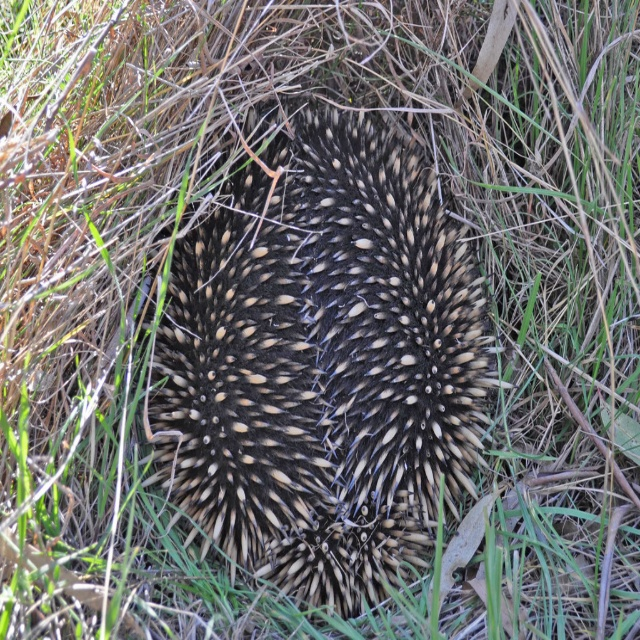Hedgehog: (124, 0, 521, 640)
